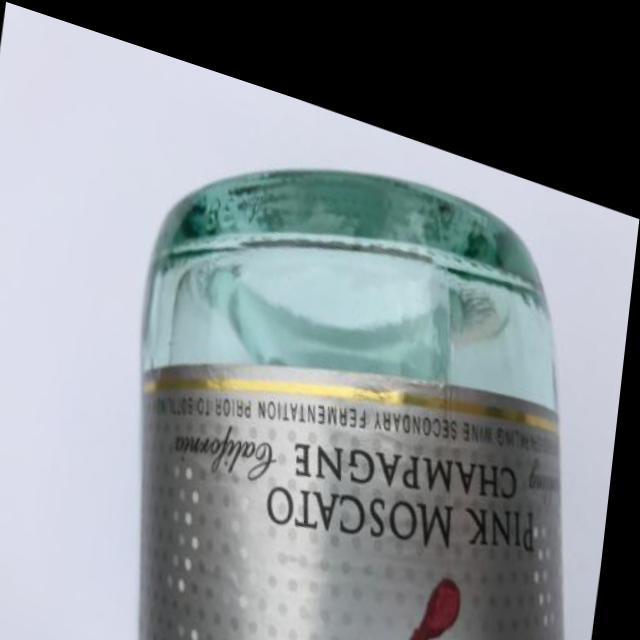glass: (65, 74, 636, 640)
